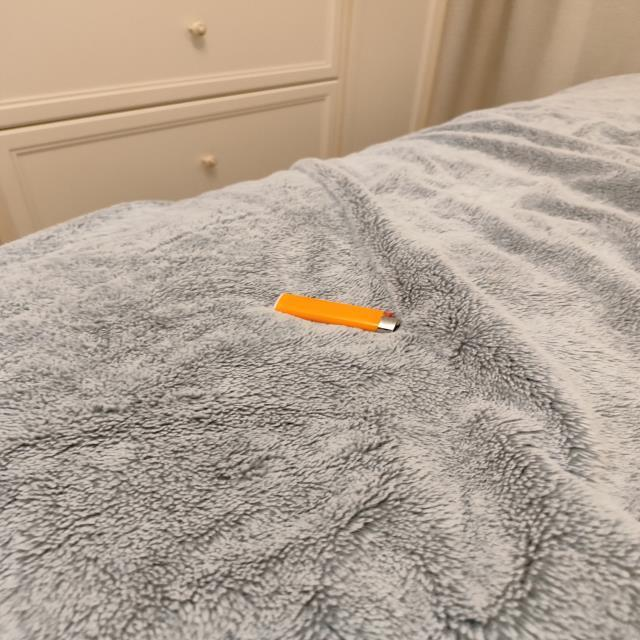lighter: (275, 293, 399, 332)
